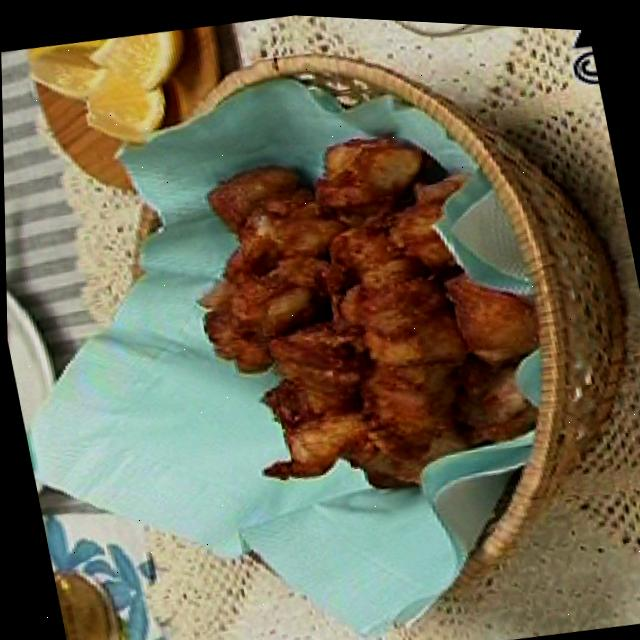鸡肉料理 含炸鸡: (122, 59, 637, 589)
